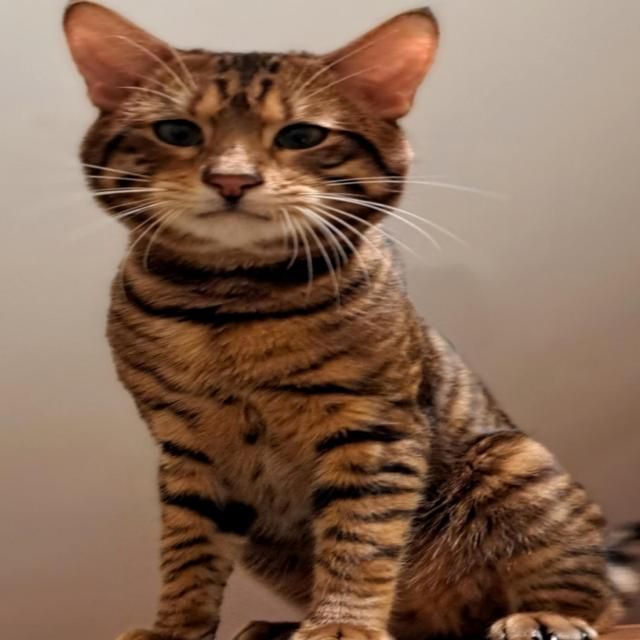Toyger: (59, 0, 640, 640)
